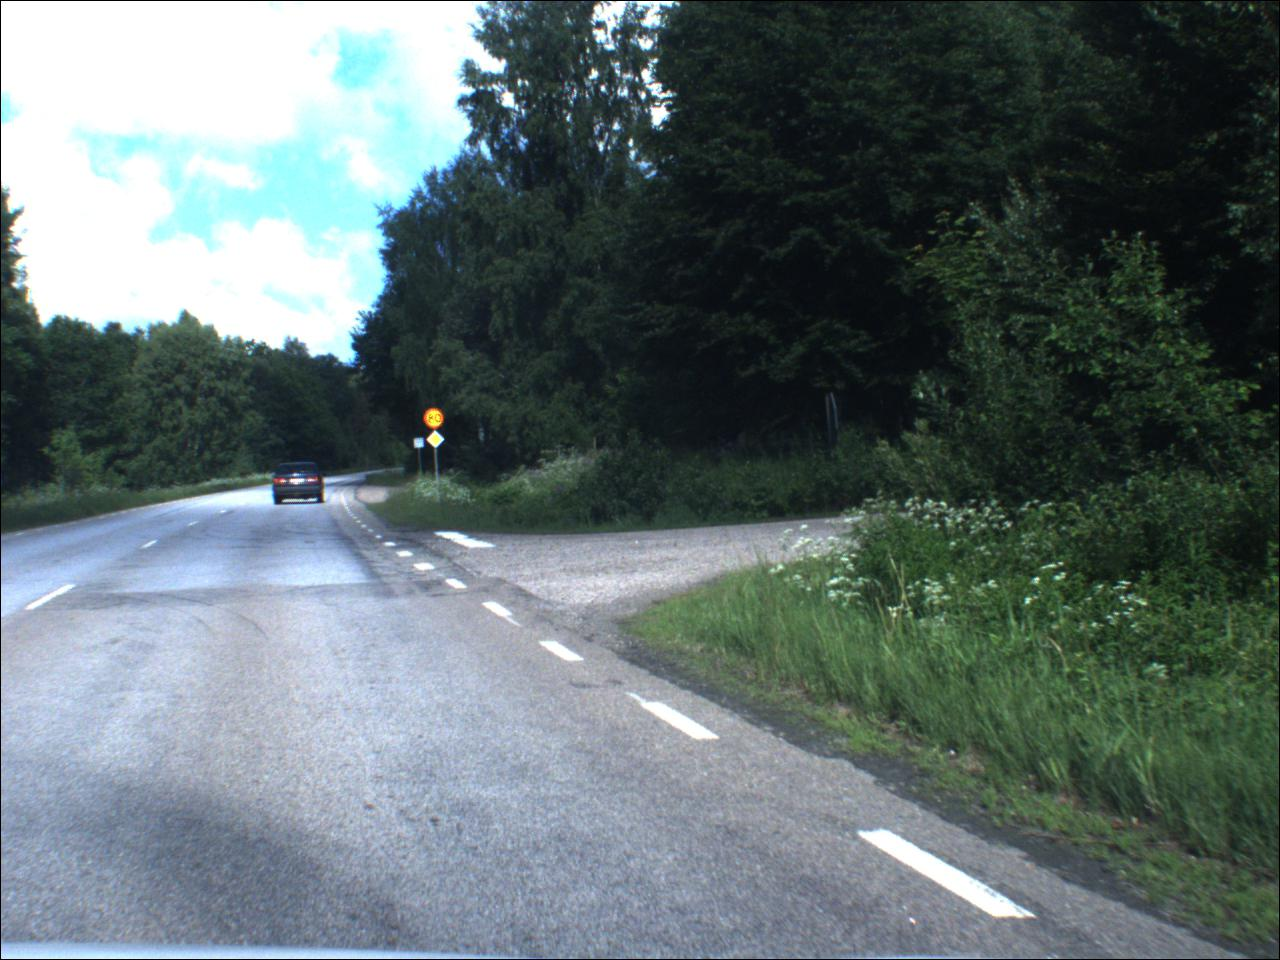80_SIGN: (425, 408, 447, 431)
PRIORITY_ROAD: (428, 433, 449, 451)
